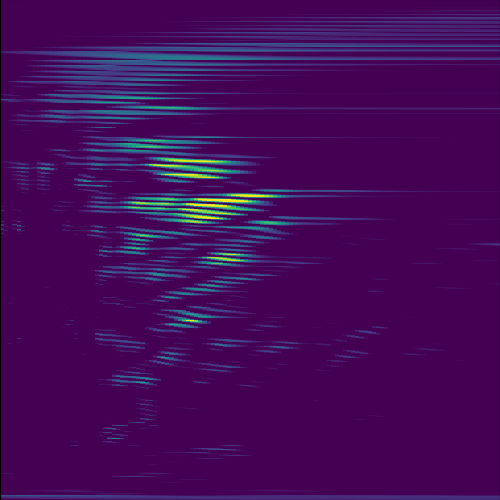semblance: (173, 189, 287, 226), (140, 154, 250, 184)
